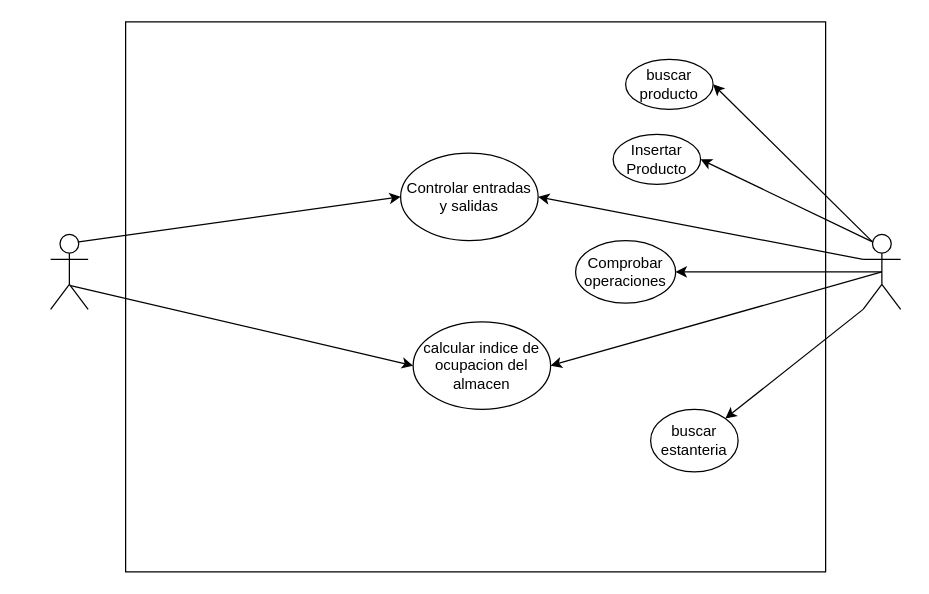
Some shapes in this 929 by 594 pixel diagram are drawn without their labels. Each missing label, with the centre of its shape:
"Base de datos" goes at point 68,271.
"Usuario" goes at point 881,271.
